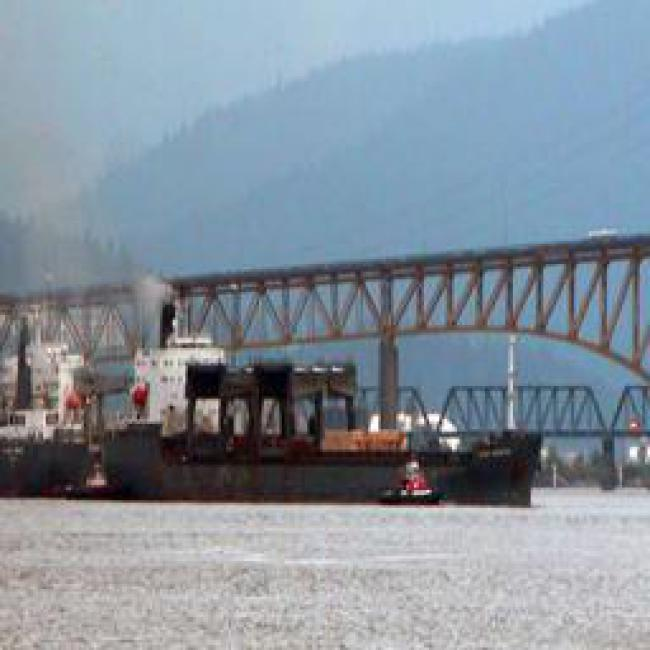Ship: (9, 356, 540, 516)
